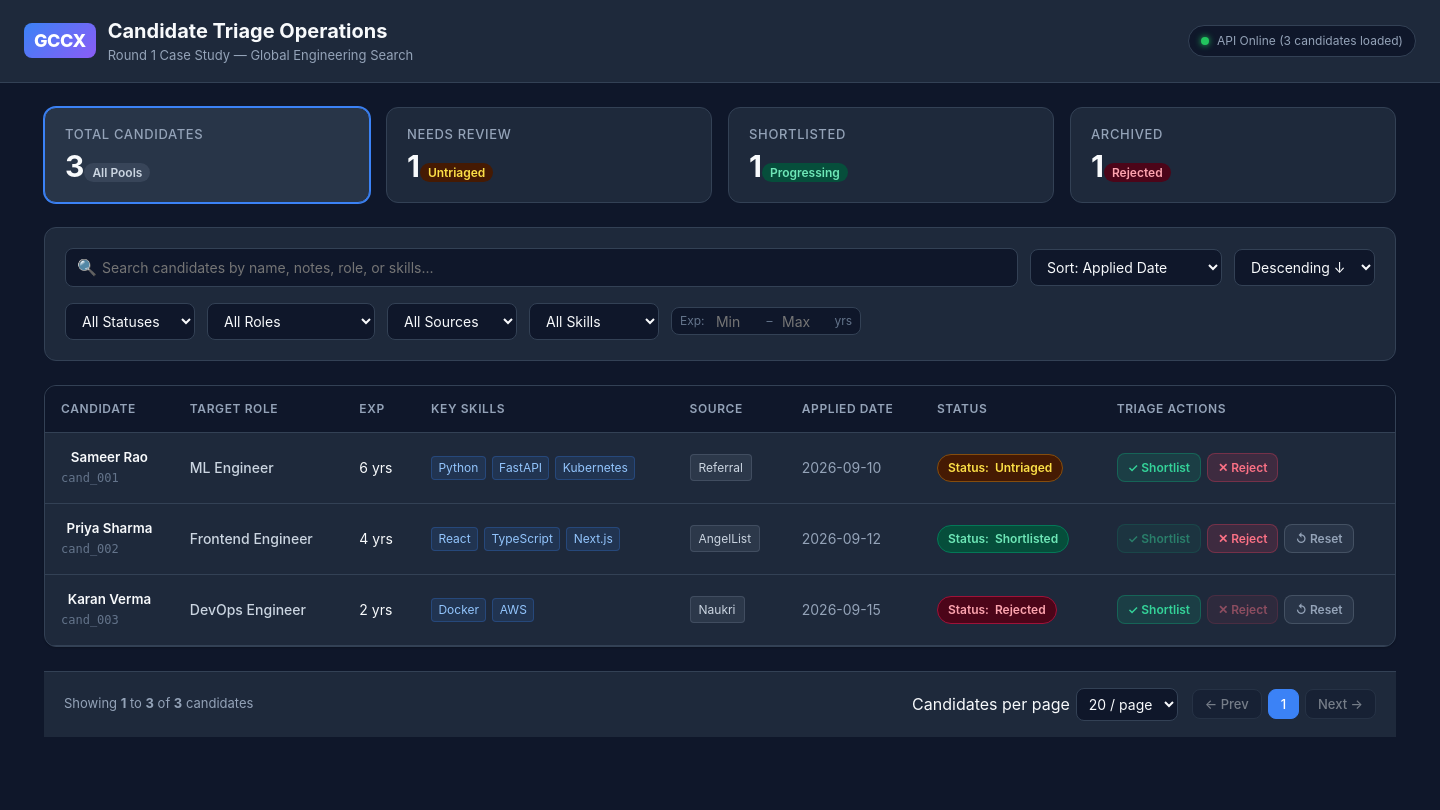
Test case: Candidate Triage Dashboard UI Tests › displays error banner and retry option when AI fit evaluation fails
Click the button "Sameer Rao" at (109, 456), box [61, 448, 158, 464]
(page scrolled)
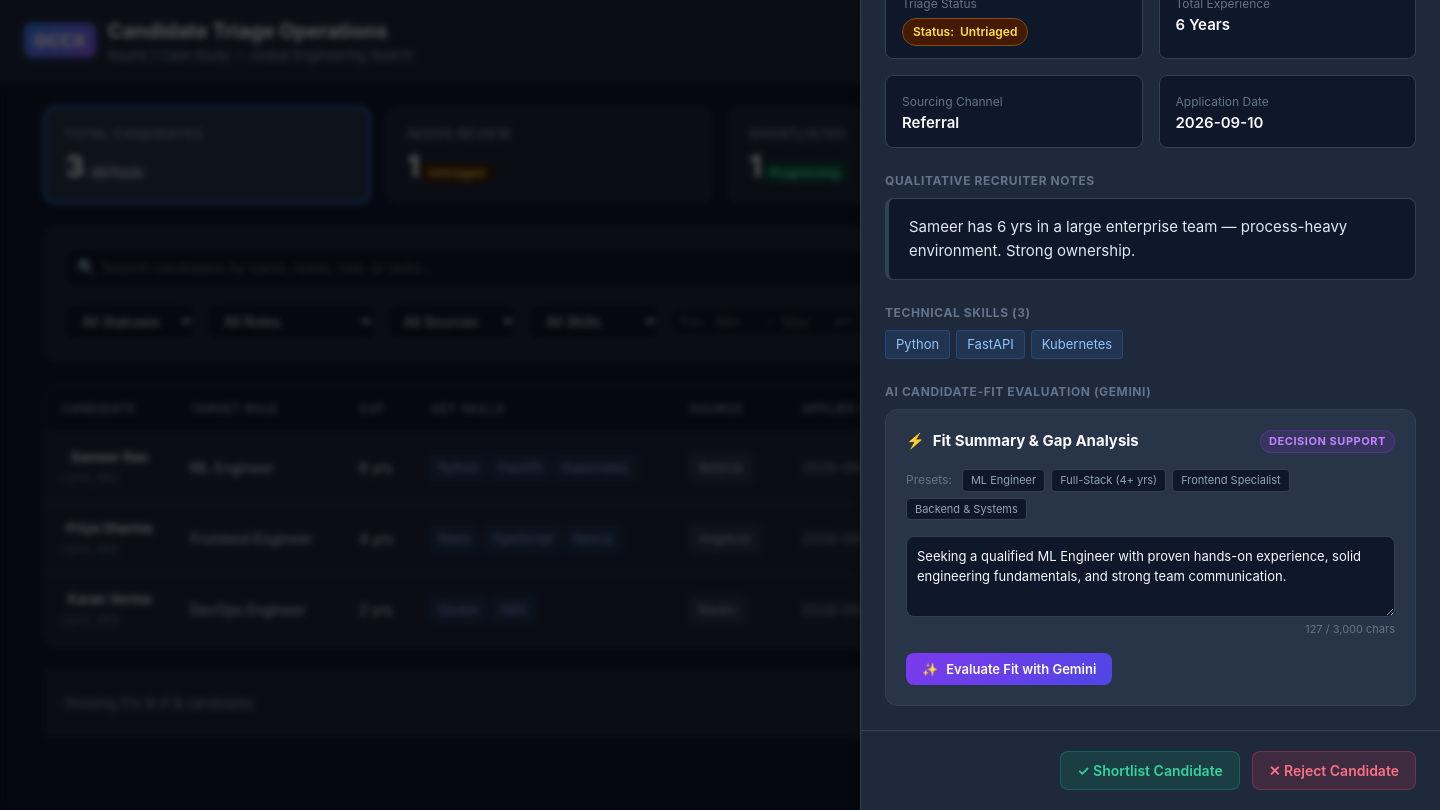
Now the button "✨ Evaluate Fit with Gemini" is shown
Click the button "✨ Evaluate Fit with Gemini" at (1009, 669), box [906, 653, 1112, 685]
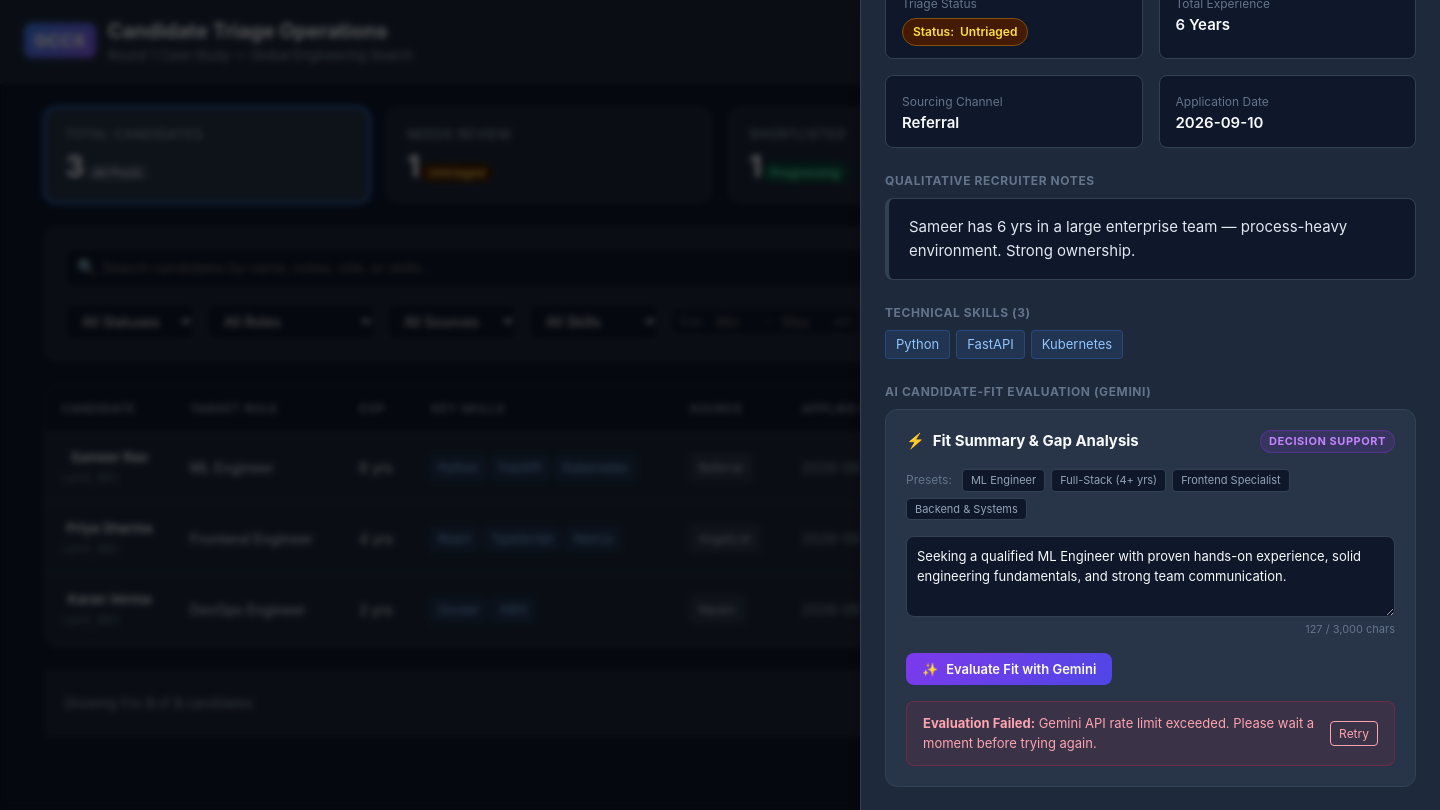
Now the text "Evaluation Failed:" is shown, box [923, 715, 1035, 731]
Now the text "Gemini API rate limit exceeded" is shown, box [923, 715, 1314, 750]
